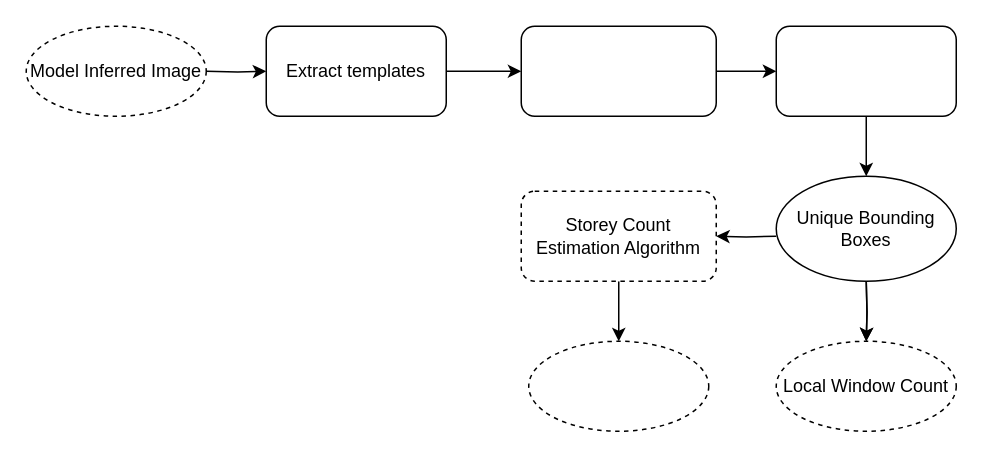
This 983x458 diagram has some shape labels left out. Here are the shapes that lost their labels. From the top down, the centre of each, then its label:
(618,70): Template Matching on respective horizontal patches
(865,70): Non-Maximum Suppresion
(618,385): Local Storey Count
